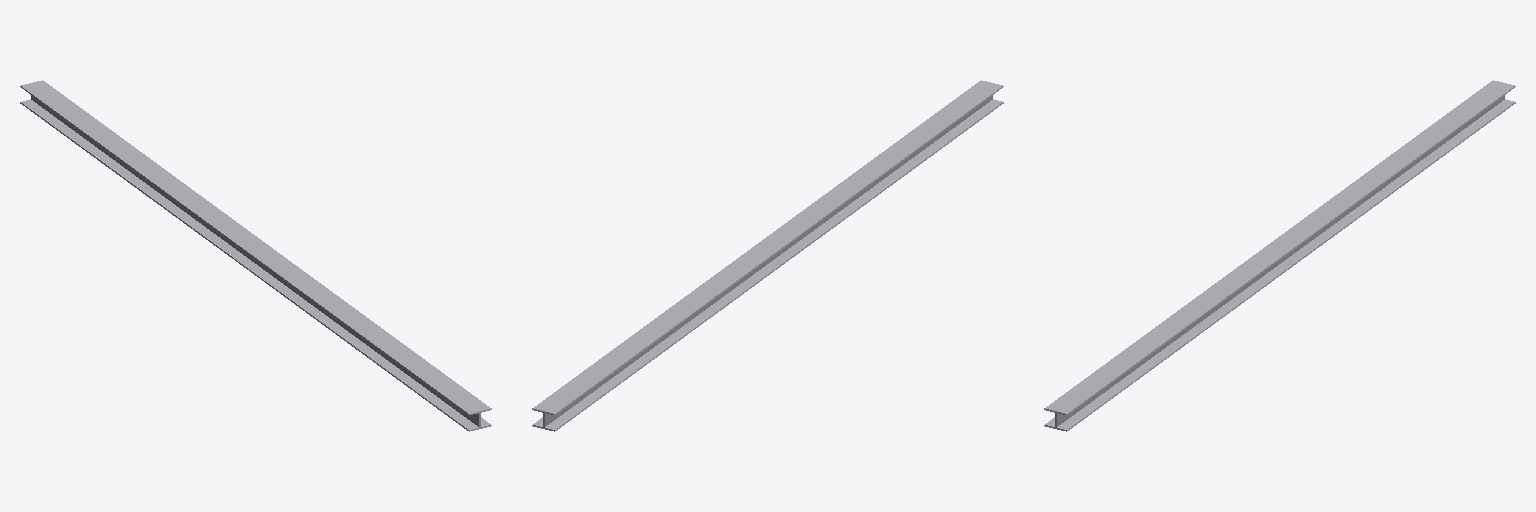
robot.urdf — h_bar:
<?xml version="1.0" ?>
<!-- =================================================================================== -->
<!-- |    This document was autogenerated by xacro from h_bar.xacro                    | -->
<!-- |    EDITING THIS FILE BY HAND IS NOT RECOMMENDED                                 | -->
<!-- =================================================================================== -->
<robot name="h_bar">
  <link name="world"/>
  <!-- Bottom leg (aligned with z-axis after rotation, below origin) -->
  <link name="hbar_bottom_leg">
    <visual>
      <origin rpy="0 1.57079633 0" xyz="0 0 0"/>
      <geometry>
        <!-- thickness x, profile width y, leg length along local z -->
        <box size="0.01 5.0 0.145"/>
      </geometry>
      <material name="hbar_material_bottom">
        <!-- Brushed steel-like gray -->
        <color rgba="0.75 0.75 0.78 1.0"/>
      </material>
    </visual>
    <collision>
      <origin rpy="0 1.57079633 0" xyz="0 0 0"/>
      <geometry>
        <box size="0.01 5.0 0.145"/>
      </geometry>
    </collision>
    <inertial>
      <origin rpy="0 0 0" xyz="0 0 0"/>
      <mass value="0.3333333333333333"/>
      <inertia ixx="0.6950284722222222" ixy="0.0" ixz="0.0" iyy="0.0005868055555555555" iyz="0.0" izz="0.6944472222222222"/>
    </inertial>
  </link>
  <!-- Top leg (aligned with z-axis after rotation, above origin) -->
  <link name="hbar_top_leg">
    <visual>
      <origin rpy="0 1.57079633 0" xyz="0 0 0"/>
      <geometry>
        <box size="0.01 5.0 0.145"/>
      </geometry>
      <material name="hbar_material_top">
        <!-- Brushed steel-like gray -->
        <color rgba="0.75 0.75 0.78 1.0"/>
      </material>
    </visual>
    <collision>
      <origin rpy="0 1.57079633 0" xyz="0 0 0"/>
      <geometry>
        <box size="0.01 5.0 0.145"/>
      </geometry>
    </collision>
    <inertial>
      <origin rpy="0 0 0" xyz="0 0 0"/>
      <mass value="0.3333333333333333"/>
      <inertia ixx="0.6950284722222222" ixy="0.0" ixz="0.0" iyy="0.0005868055555555555" iyz="0.0" izz="0.6944472222222222"/>
    </inertial>
  </link>
  <!-- Crossbar: vertical (aligned with z-axis) at the origin -->
  <link name="hbar_crossbar">
    <visual>
      <!-- Thickness in x,y, length in z -->
      <origin rpy="0 0 0" xyz="0 0 0"/>
      <geometry>
        <box size="0.01 5.0 0.1"/>
      </geometry>
      <material name="hbar_material_cross">
        <!-- Slightly darker steel for visual contrast -->
        <color rgba="0.65 0.65 0.7 1.0"/>
      </material>
    </visual>
    <collision>
      <origin rpy="0 0 0" xyz="0 0 0"/>
      <geometry>
        <box size="0.01 5.0 0.1"/>
      </geometry>
    </collision>
    <inertial>
      <origin rpy="0 0 0" xyz="0 0 0"/>
      <mass value="0.3333333333333333"/>
      <inertia ixx="0.6947222222222222" ixy="0.0" ixz="0.0" iyy="0.0002805555555555556" iyz="0.0" izz="0.6944472222222222"/>
    </inertial>
  </link>
  <!-- Fix crossbar to world; its center is at the macro pose -->
  <joint name="hbar_cross_fix" type="fixed">
    <parent link="world"/>
    <child link="hbar_crossbar"/>
    <origin rpy="0 0 0" xyz="0 0 0"/>
  </joint>
  <!-- Top leg: translated +L_leg/2 in x and +L_span/2 in z relative to crossbar -->
  <joint name="hbar_top_fix" type="fixed">
    <parent link="hbar_crossbar"/>
    <child link="hbar_top_leg"/>
    <origin rpy="0 0.0 0" xyz="0 0 0.05"/>
  </joint>
  <!-- Bottom leg: translated +L_leg/2 in x and -L_span/2 in z relative to crossbar -->
  <joint name="hbar_bottom_fix" type="fixed">
    <parent link="hbar_crossbar"/>
    <child link="hbar_bottom_leg"/>
    <origin rpy="0 0 0" xyz="0 0 -0.05"/>
  </joint>
</robot>

--- Facts derived from the render (not from the file) ---
Views: 3 orthographic renders of the robot side by side, from view 1: azimuth 30°, elevation 25°; view 2: azimuth 150°, elevation 25°; view 3: azimuth 330°, elevation 25°.
Model h_bar with 4 links and 3 joints (3 fixed), rooted at world, posed all joints at 0.
Visible links, largest first — view 1: hbar_top_leg, hbar_bottom_leg, hbar_crossbar; view 2: hbar_top_leg, hbar_bottom_leg, hbar_crossbar; view 3: hbar_top_leg, hbar_bottom_leg, hbar_crossbar.
Boxes of the visible links, x1,y1,x2,y2 form: hbar_top_leg: (20,80,491,414); hbar_bottom_leg: (20,99,491,431); hbar_crossbar: (31,95,480,427); hbar_top_leg: (532,80,1003,414); hbar_bottom_leg: (532,99,1003,431); hbar_crossbar: (543,95,992,427); hbar_top_leg: (1044,80,1515,414); hbar_bottom_leg: (1044,99,1515,431); hbar_crossbar: (1055,95,1504,427).
Size in the robot's own frame: 0.145 by 5 by 0.11 metres.
Geometry: primitives only (box / cylinder / sphere), no mesh files.
